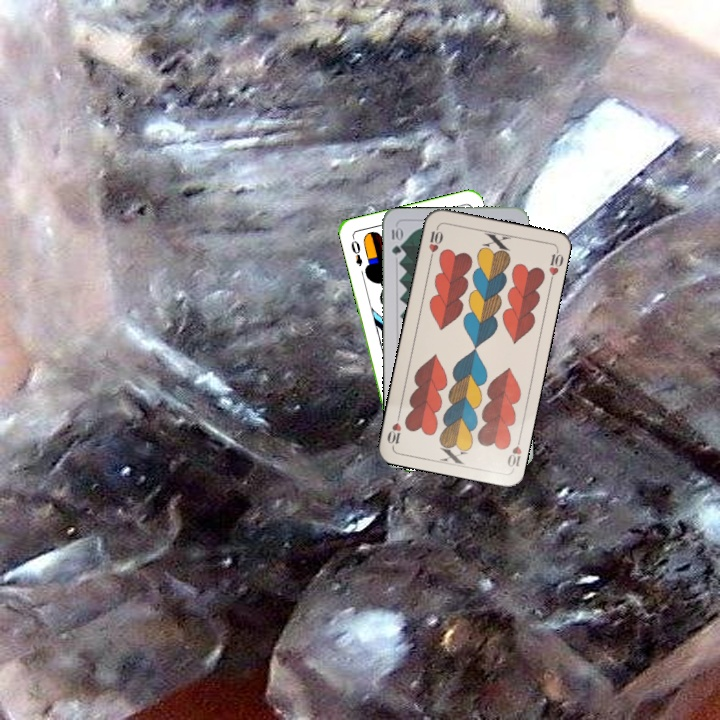EO: (347, 233, 365, 269)
G10: (388, 223, 404, 258)
H10: (425, 223, 445, 263), (503, 432, 524, 470)
